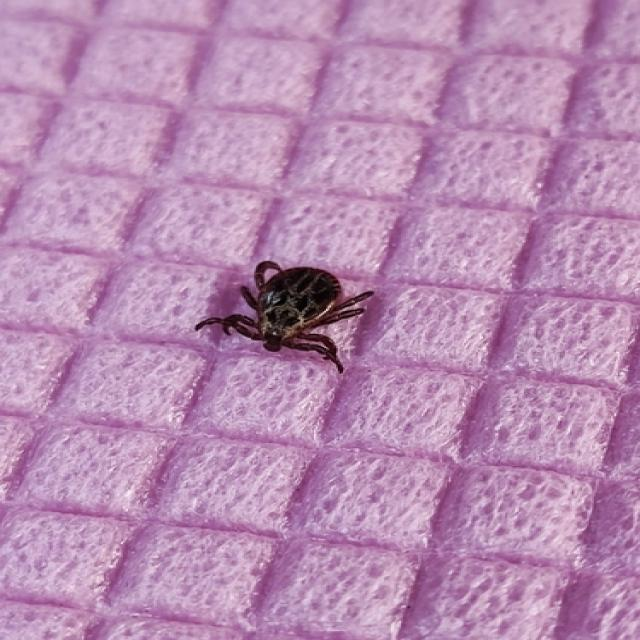Dermacentor Reticulatus-M: (195, 261, 374, 374)
